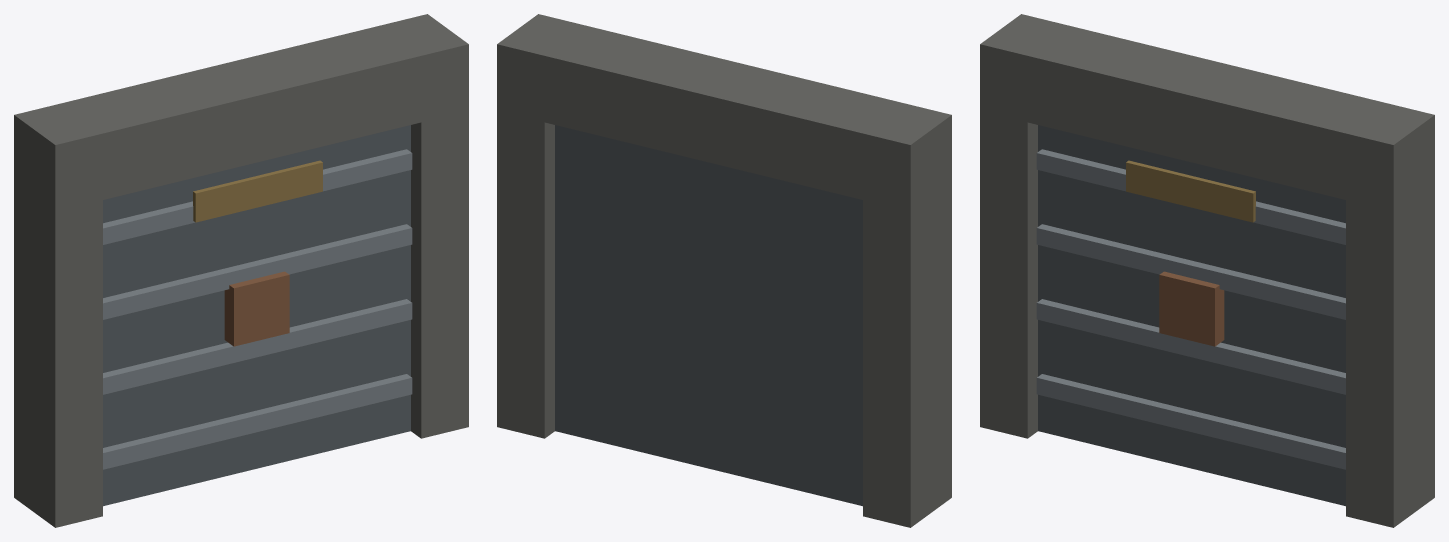
File: blast_door.glb
3 renders of one model, left to right at view 1: azimuth 30°, elevation 25°; view 2: azimuth 150°, elevation 25°; view 3: azimuth 330°, elevation 25°, orthographic.
Parts seen in each view (by area): view 1: slab, lintel, frame_l, frame_r, rib0, rib2, rib1, chevron, wheel_hub, rib3; view 2: slab, lintel, frame_l, frame_r; view 3: slab, lintel, frame_r, frame_l, rib0, rib2, rib1, chevron, wheel_hub, rib3.
Part boxes in pixels (x1=…): slab: x1=103, y1=125, x2=410, y2=506; lintel: x1=14, y1=14, x2=468, y2=211; frame_l: x1=14, y1=132, x2=102, y2=527; frame_r: x1=411, y1=62, x2=468, y2=438; rib0: x1=103, y1=374, x2=412, y2=469; rib2: x1=103, y1=224, x2=412, y2=319; rib1: x1=103, y1=299, x2=412, y2=394; chevron: x1=193, y1=160, x2=322, y2=222; wheel_hub: x1=224, y1=271, x2=289, y2=346; rib3: x1=103, y1=149, x2=412, y2=244; slab: x1=555, y1=125, x2=862, y2=506; lintel: x1=497, y1=14, x2=951, y2=211; frame_l: x1=863, y1=132, x2=951, y2=527; frame_r: x1=497, y1=61, x2=554, y2=438; slab: x1=1038, y1=125, x2=1345, y2=506; lintel: x1=980, y1=14, x2=1434, y2=211; frame_r: x1=1346, y1=132, x2=1434, y2=527; frame_l: x1=980, y1=61, x2=1037, y2=438; rib0: x1=1036, y1=374, x2=1345, y2=469; rib2: x1=1036, y1=224, x2=1345, y2=319; rib1: x1=1036, y1=299, x2=1345, y2=394; chevron: x1=1126, y1=160, x2=1255, y2=222; wheel_hub: x1=1159, y1=271, x2=1224, y2=346; rib3: x1=1036, y1=149, x2=1345, y2=244.
Size of the model in its own units: 5.2 by 4.6 by 0.9.
